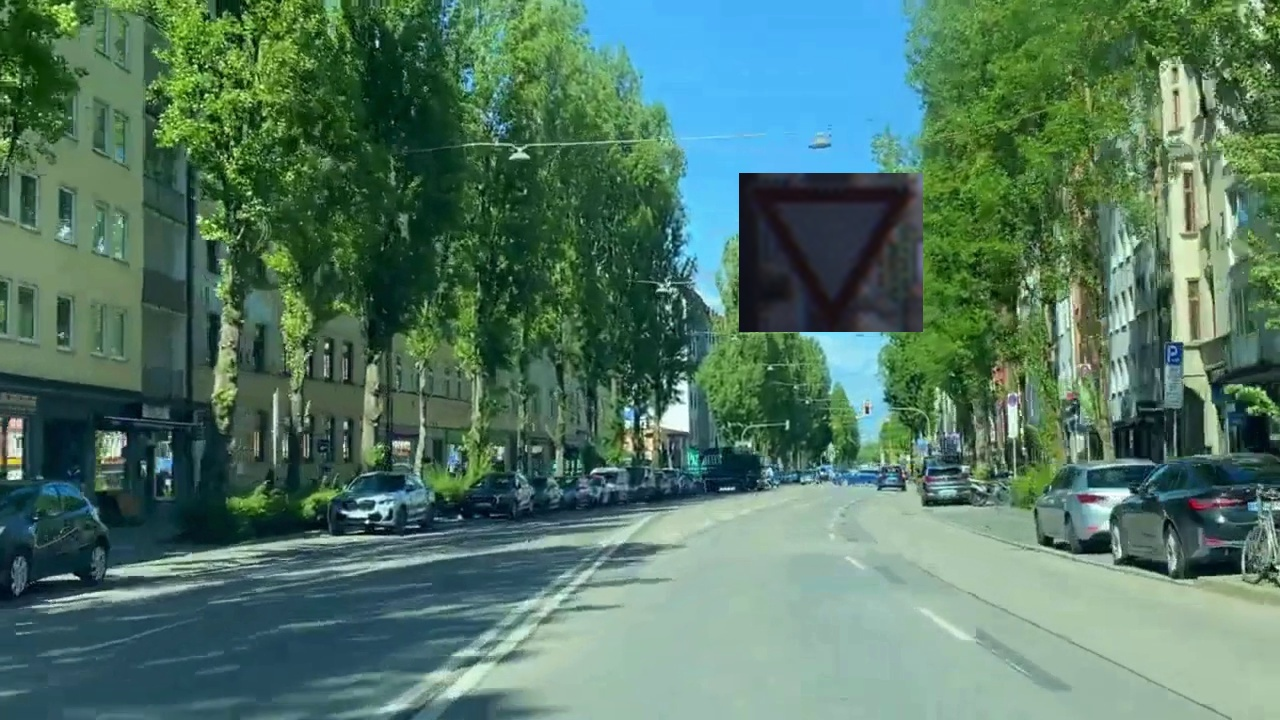Yield: (739, 173, 923, 332)
